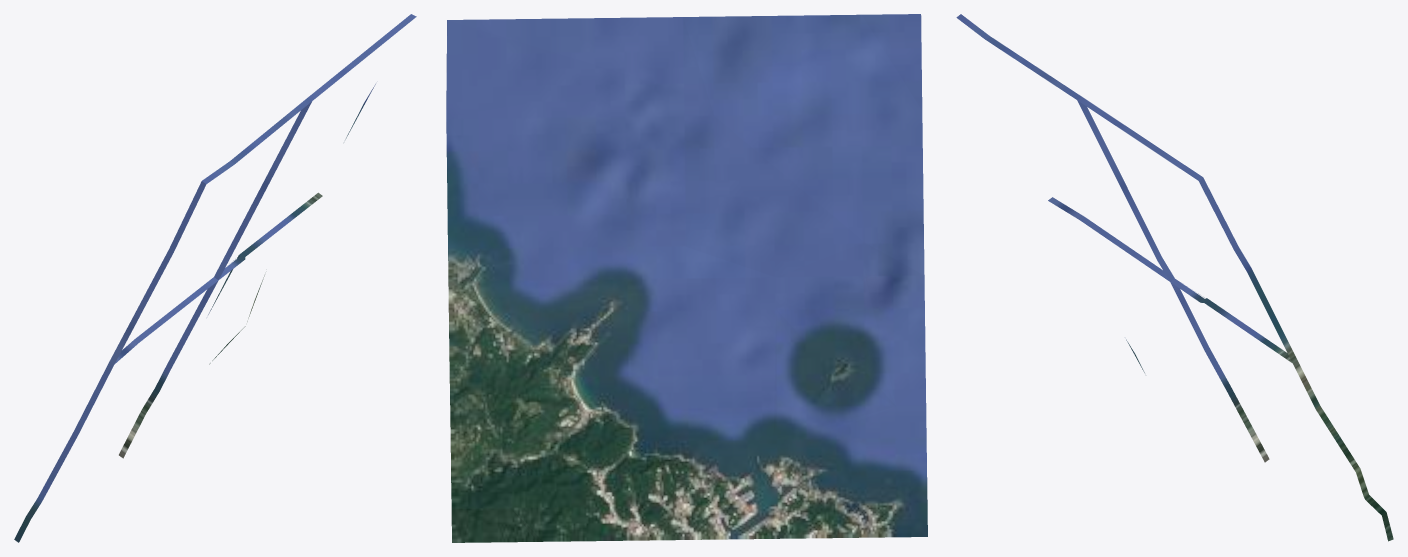
3 renders of one model, left to right at view 1: azimuth 30°, elevation 25°; view 2: azimuth 150°, elevation 25°; view 3: azimuth 270°, elevation 25°, orthographic. The views are drawn at different scales.
Size of the model in its own units: 19729 by 17803 by 16984.
Materials: 1 (1 with a texture image).
